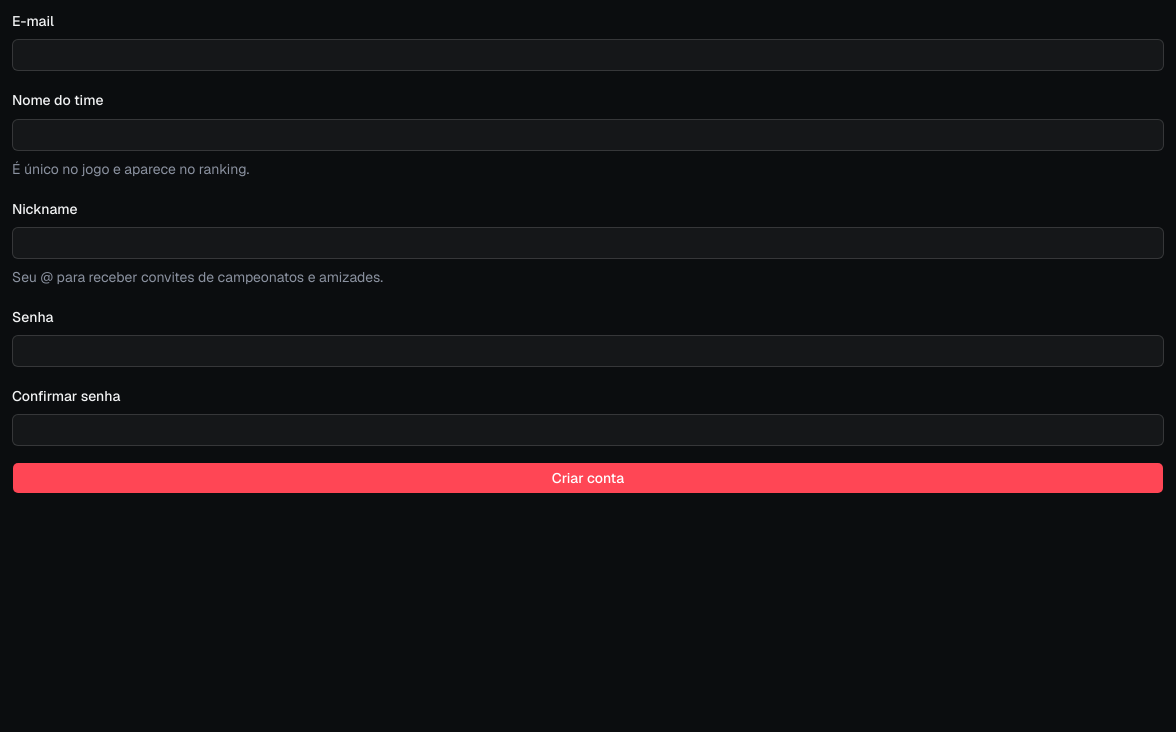
SignUpForm › mostra erro quando o nickname tem caracteres inválidos
The width and height of the screenshot is (1176, 732).
In the field labelled "Nickname": (588, 243) [12, 227, 1164, 259], type "rodrigo santos!"
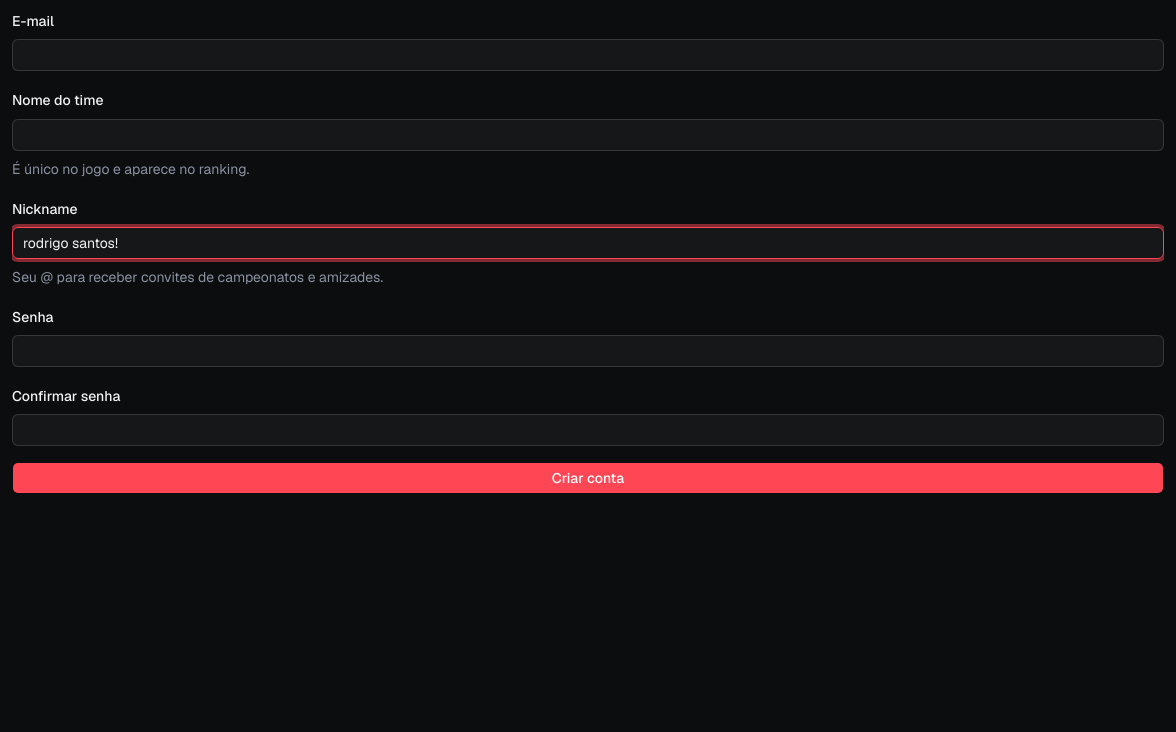
Click the button "Criar conta": (588, 478) [12, 462, 1164, 494]
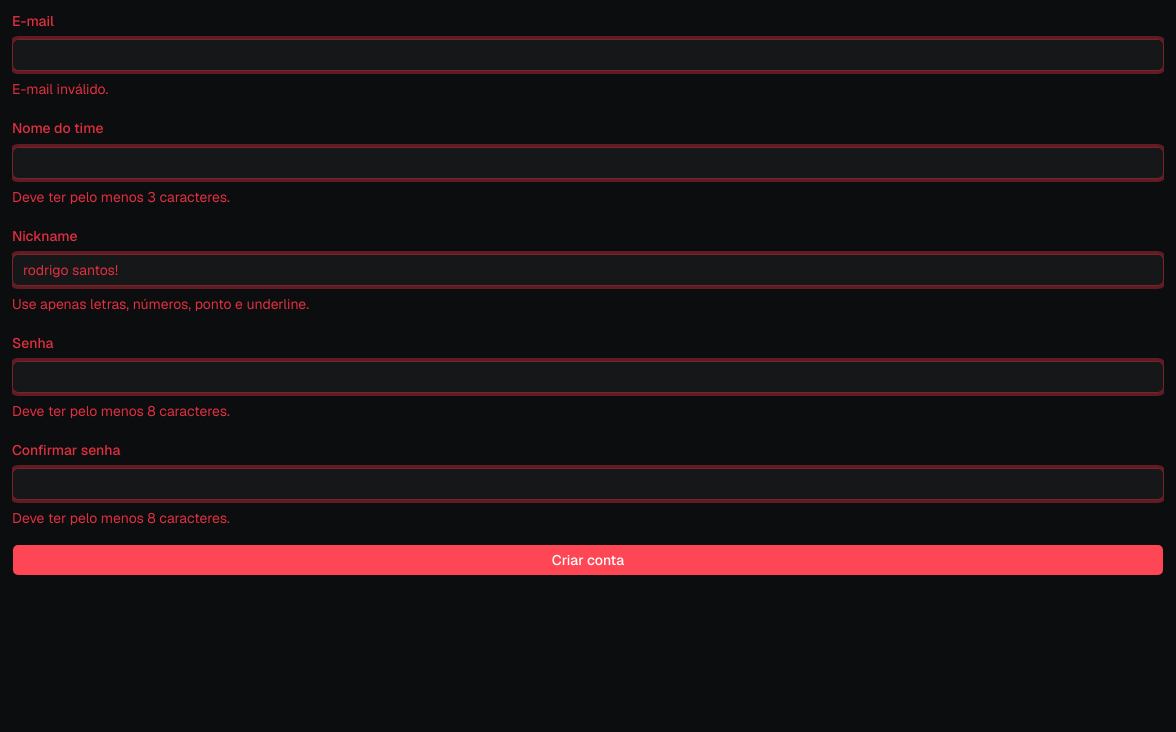
Now the text "Use apenas letras, números, ponto e underline." is shown, box [12, 295, 309, 313]
